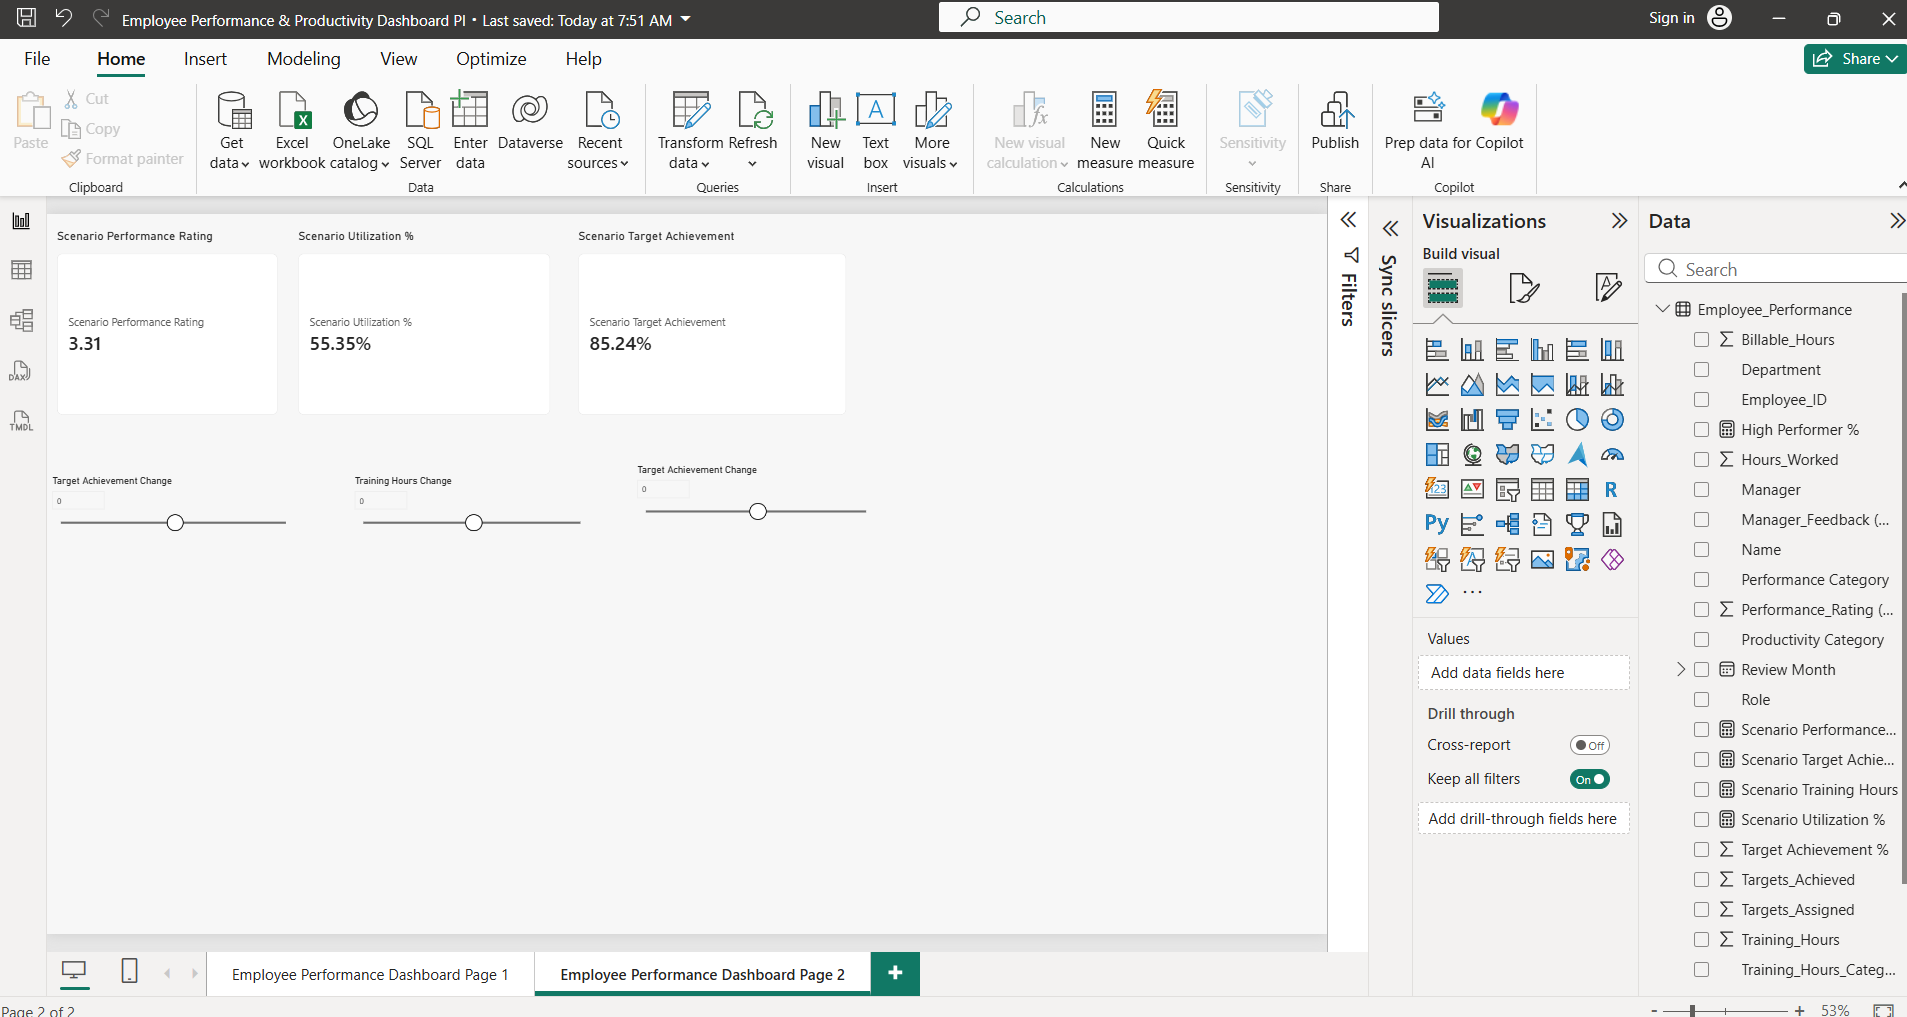

This screenshot's page, from the dashboard's own definition file:
{"tool":"powerbi","page":{"name":"Employee Performance Dashboard Page 2","canvas":[1920,1080],"ordinal":1},"visuals":[{"type":"cardVisual","title":"Scenario Performance Rating","fields":{"Data":["Employee_Performance.Scenario Performance Rating"]},"box":[15,22.5,331.9,279.4],"z":0},{"type":"cardVisual","title":"Scenario Utilization %","fields":{"Data":["Employee_Performance.Scenario Utilization %"]},"box":[376.9,22.5,378.8,279.4],"z":1},{"type":"slicer","fields":{"Values":["Training Hours Change.Training Hours Change"]},"box":[453.8,391.9,364.9,188.3],"z":2},{"type":"slicer","fields":{"Values":["Target Achievement Change 2.Target Achievement Change"]},"box":[877.5,375,369.6,278.9],"z":3},{"type":"cardVisual","title":"Scenario Target Achievement","fields":{"Data":["Employee_Performance.Scenario Target Achievement"]},"box":[796.9,22.5,402.1,278.9],"z":4},{"type":"slicer","fields":{"Values":["Target Achievement Change.Target Achievement Change"]},"box":[0,391.9,376.6,141.8],"z":5}]}

Visuals, with their boxes on the page's 1920x1080 design canvas (x1, y1, x2, y2). These are canvas units, not pixel positions in the 1907x1017 screenshot, which may show the page scaled, cropped or inside an application window:
"Scenario Performance Rating" cardVisual: pyautogui.locateOnScreen(15, 22, 347, 302)
"Scenario Utilization %" cardVisual: pyautogui.locateOnScreen(377, 22, 756, 302)
slicer - Training Hours Change.Training Hours Change: pyautogui.locateOnScreen(454, 392, 819, 580)
slicer - Target Achievement Change 2.Target Achievement Change: pyautogui.locateOnScreen(878, 375, 1247, 654)
"Scenario Target Achievement" cardVisual: pyautogui.locateOnScreen(797, 22, 1199, 301)
slicer - Target Achievement Change.Target Achievement Change: pyautogui.locateOnScreen(0, 392, 377, 534)
